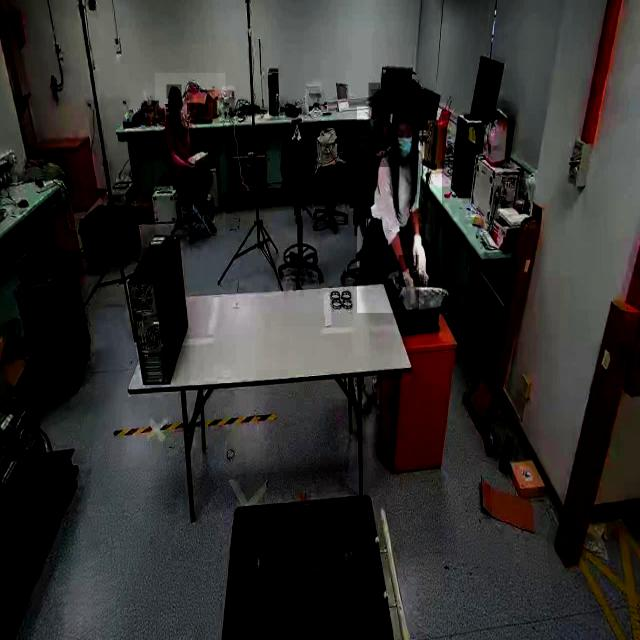face_mask: (396, 128, 416, 159), (367, 97, 383, 132)
hand_glove: (398, 255, 419, 317), (411, 224, 431, 278)
hand_noglove: (184, 158, 197, 170)
head_nohelmet: (393, 102, 419, 124), (370, 89, 390, 108), (166, 84, 182, 100)
person: (357, 106, 443, 314), (155, 73, 226, 235), (368, 83, 392, 167)
